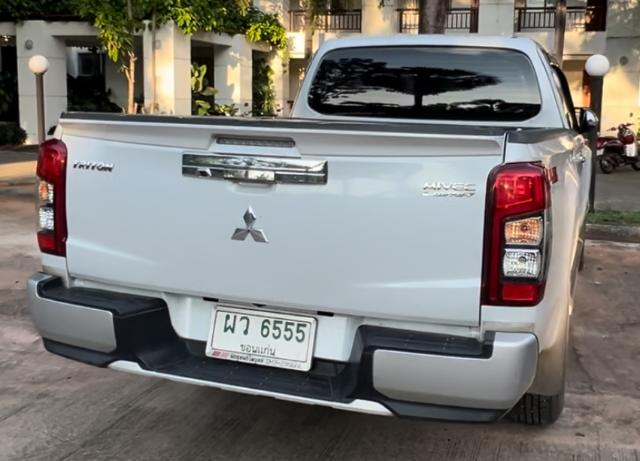pickup-truck: (23, 31, 602, 437)
